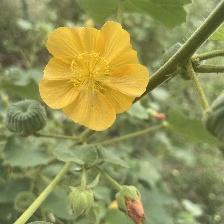indian mallow: (41, 20, 152, 133)
